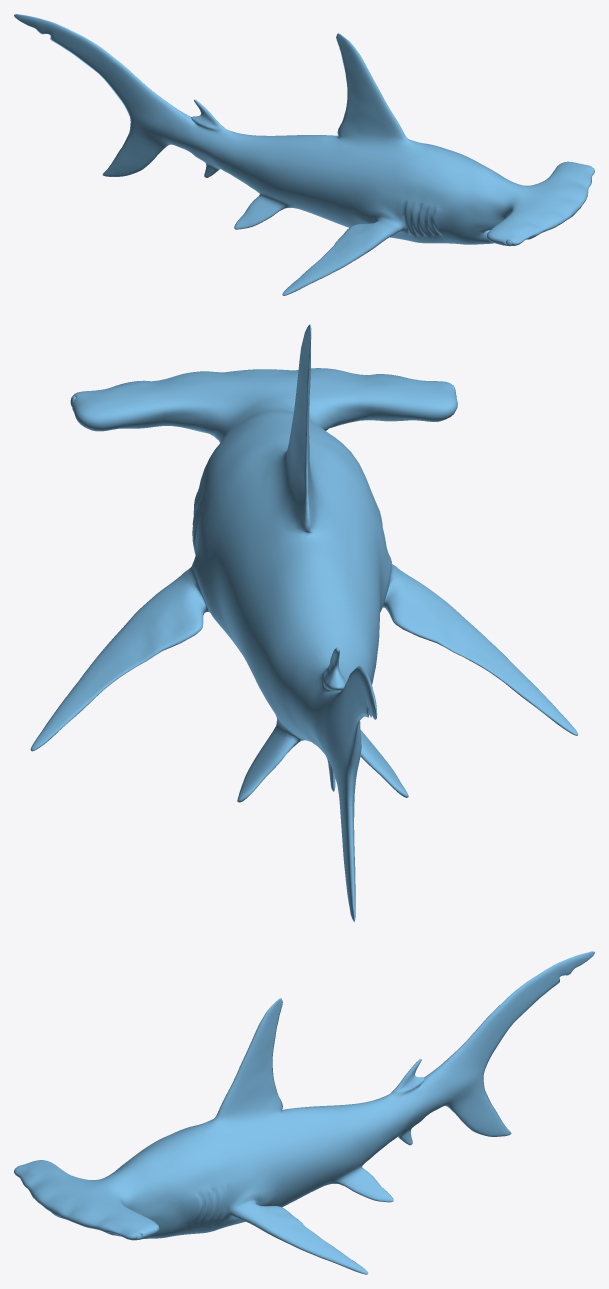
The model's file is Hammerhead_Shark.fbx.
3 views of the same model, one above another, from view 1: azimuth 30°, elevation 25°; view 2: azimuth 150°, elevation 25°; view 3: azimuth 270°, elevation 25° (orthographic). The views are drawn at different scales.
Parts seen in each view (by area): view 1: hammerhead_shark; view 2: hammerhead_shark; view 3: hammerhead_shark.
Boxes of the visible parts, x1,y1,x2,y2 form: hammerhead_shark: (14, 14, 594, 295); hammerhead_shark: (30, 324, 578, 921); hammerhead_shark: (14, 951, 594, 1274).
Bounding box in the file's own units: 7901 × 4355 × 10075.
